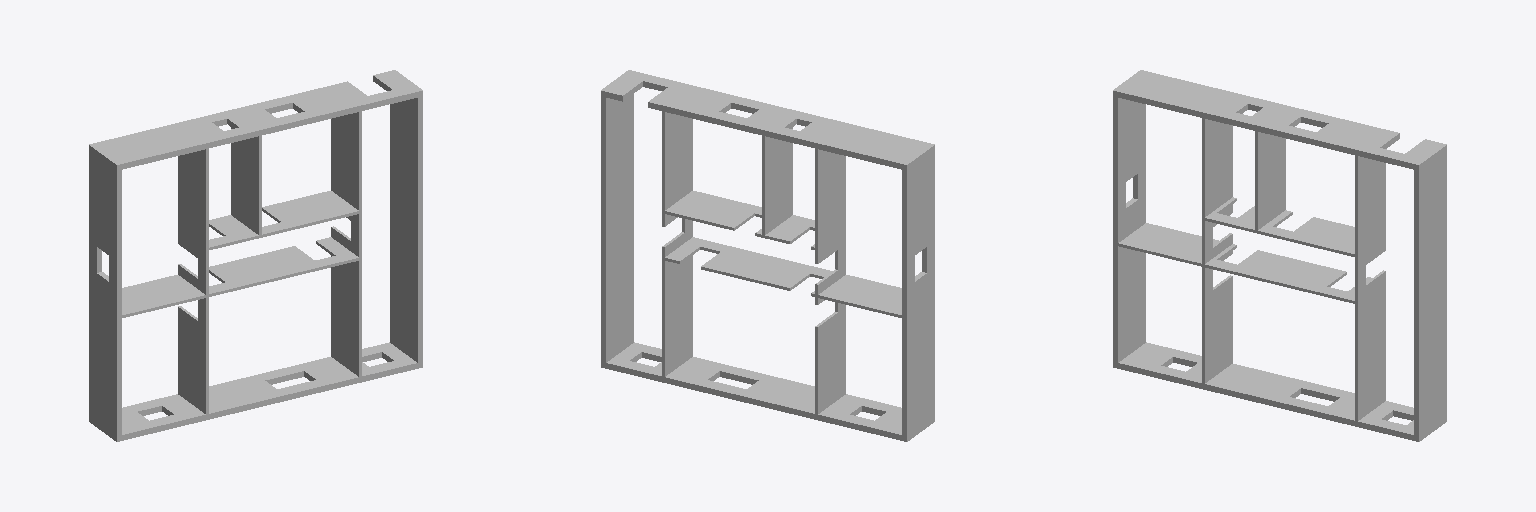
Rendered from walls.obj.
3 views of the same model, side by side, from view 1: azimuth 30°, elevation 25°; view 2: azimuth 150°, elevation 25°; view 3: azimuth 330°, elevation 25° (orthographic).
Size of the model in its own units: 22 by 19 by 3.5.